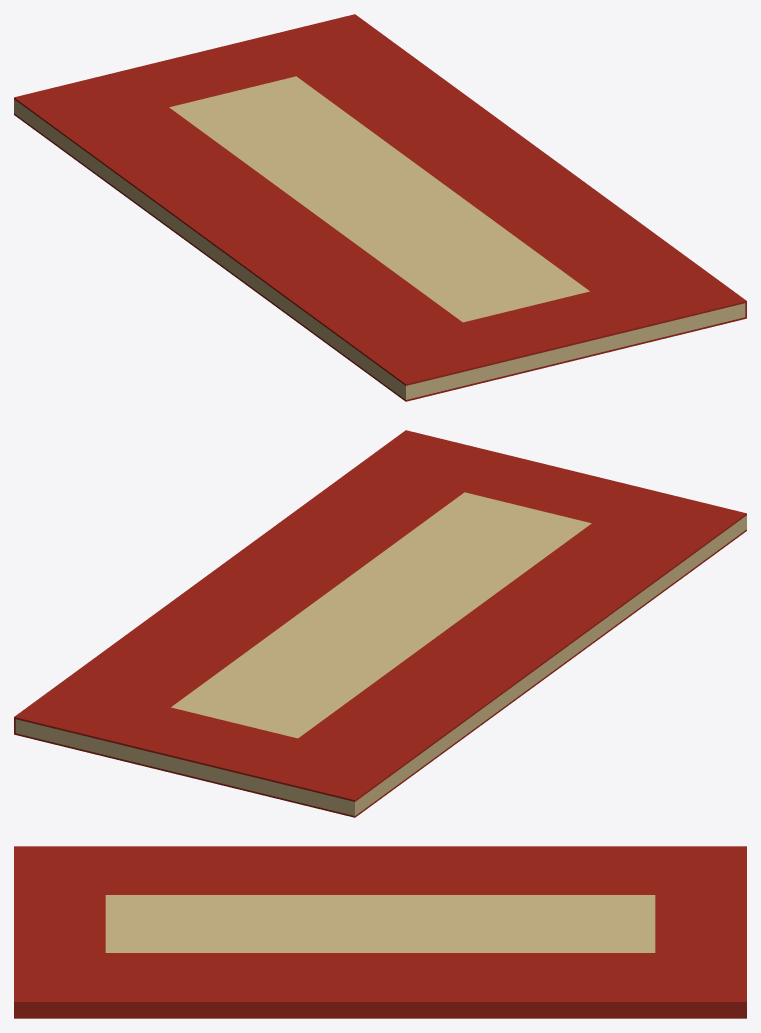
The model's file is Book16.fbx.
3 views of the same model, one above another, from view 1: azimuth 30°, elevation 25°; view 2: azimuth 150°, elevation 25°; view 3: azimuth 270°, elevation 25° (orthographic). The views are drawn at different scales.
Visible parts, largest first — view 1: Cube; view 2: Cube; view 3: Cube.
Boxes of the visible parts, left/top/right/bottom form: Cube: left=14, top=14, right=746, bottom=401; Cube: left=14, top=430, right=746, bottom=817; Cube: left=14, top=846, right=746, bottom=1018.
Size of the model in its own units: 0.1005 by 0.00496 by 0.2.
